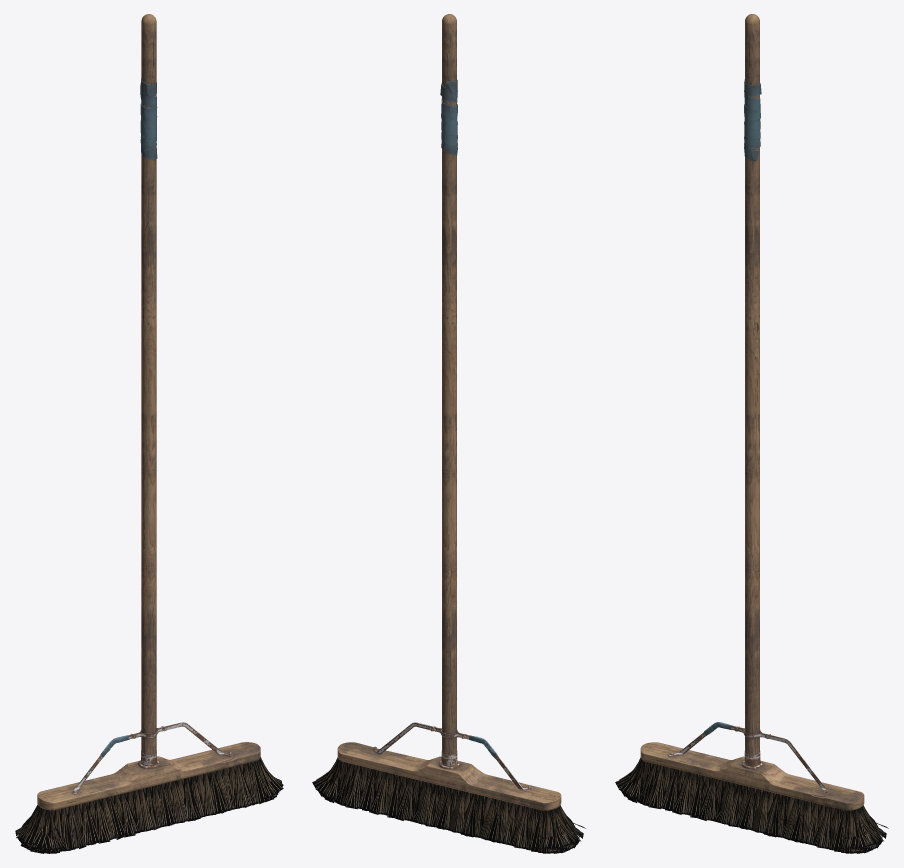
File: wooden_broom.glb
The picture shows the model from 3 angles, left to right: view 1: azimuth 30°, elevation 25°; view 2: azimuth 150°, elevation 25°; view 3: azimuth 330°, elevation 25°; orthographic projection.
Parts seen in each view (by area): view 1: wooden_broom_handle, wooden_broom_bristles; view 2: wooden_broom_handle, wooden_broom_bristles; view 3: wooden_broom_handle, wooden_broom_bristles.
Boxes of the visible parts, x1,y1,x2,y2 form: wooden_broom_handle: (37,14,260,810); wooden_broom_bristles: (15,757,283,853); wooden_broom_handle: (337,14,561,810); wooden_broom_bristles: (312,757,585,853); wooden_broom_handle: (640,14,864,810); wooden_broom_bristles: (615,757,888,853).
Size of the model in its own units: 0.4902 by 1.45 by 0.1125.
2 materials, 2 textured.
